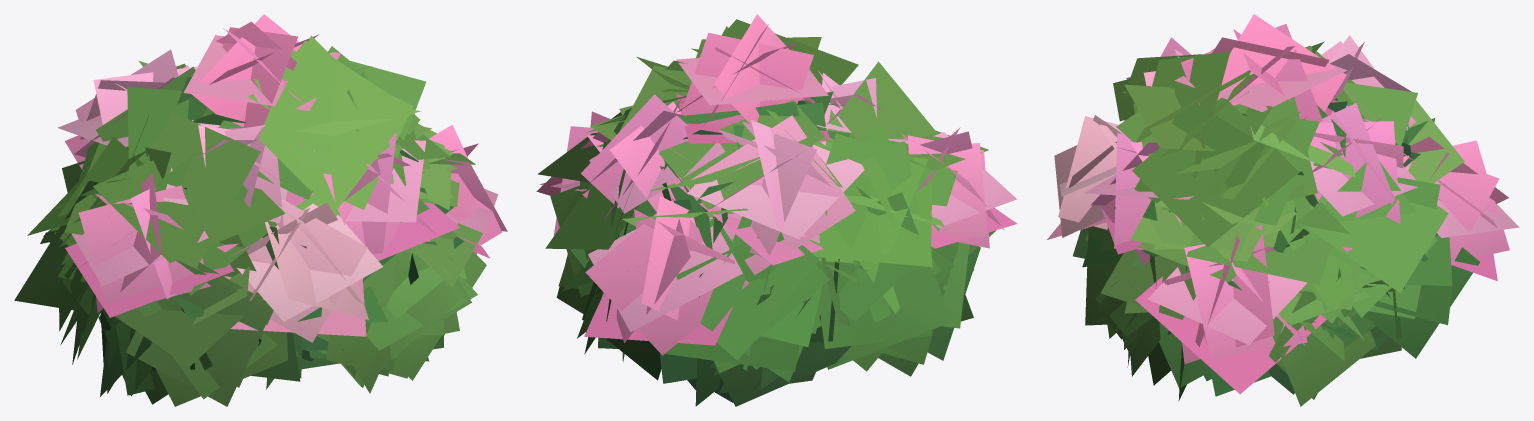
File: tree-village-bush-hydrangea-v1.glb
3 views of the same model, side by side, from view 1: azimuth 30°, elevation 25°; view 2: azimuth 150°, elevation 25°; view 3: azimuth 270°, elevation 25° (orthographic). The views are drawn at different scales.
Parts seen in each view (by area): view 1: cards_round, cards_sakura; view 2: cards_round, cards_sakura; view 3: cards_round, cards_sakura.
Part boxes in pixels (<box>): cards_round: <box>14,35,486,406</box>; cards_sakura: <box>57,14,507,342</box>; cards_round: <box>538,19,995,406</box>; cards_sakura: <box>536,14,1017,355</box>; cards_round: <box>1073,41,1479,406</box>; cards_sakura: <box>1047,14,1519,394</box>.
Bounding box in the file's own units: 2.1 × 1.47 × 1.98.
